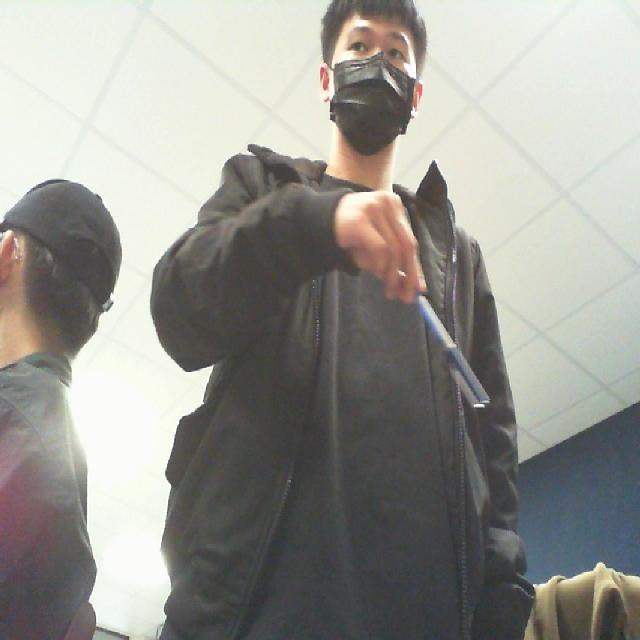Pen: (392, 294, 498, 418)
